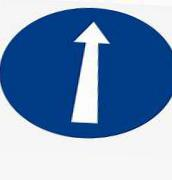forward: (2, 7, 172, 138)
